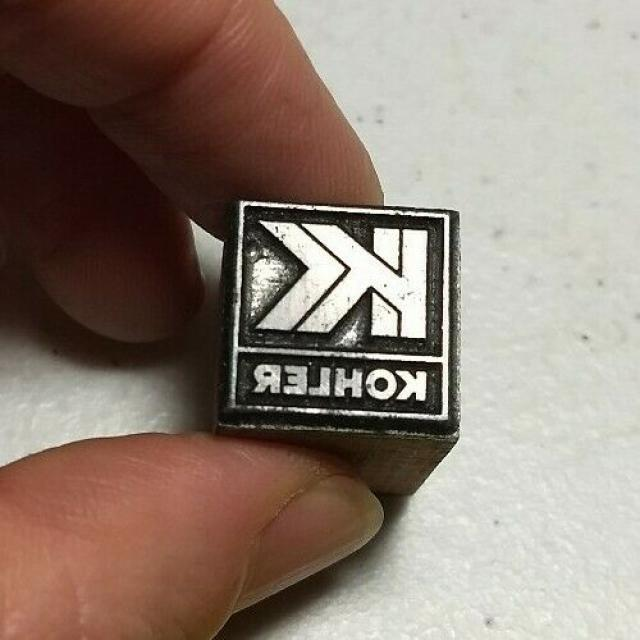Kohler: (242, 210, 437, 408)
